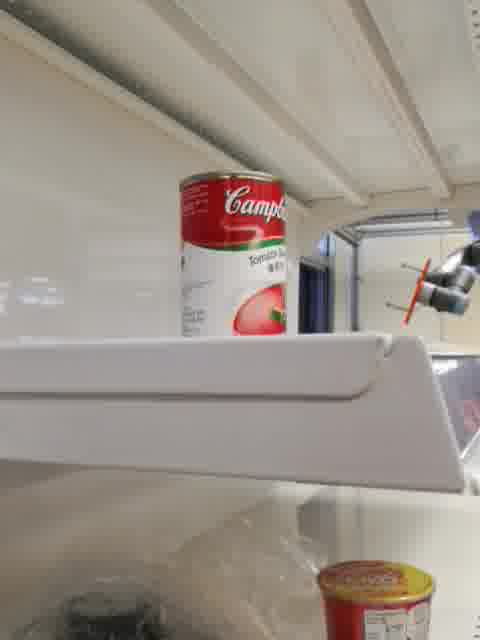tomatosoup: (176, 166, 288, 337)
